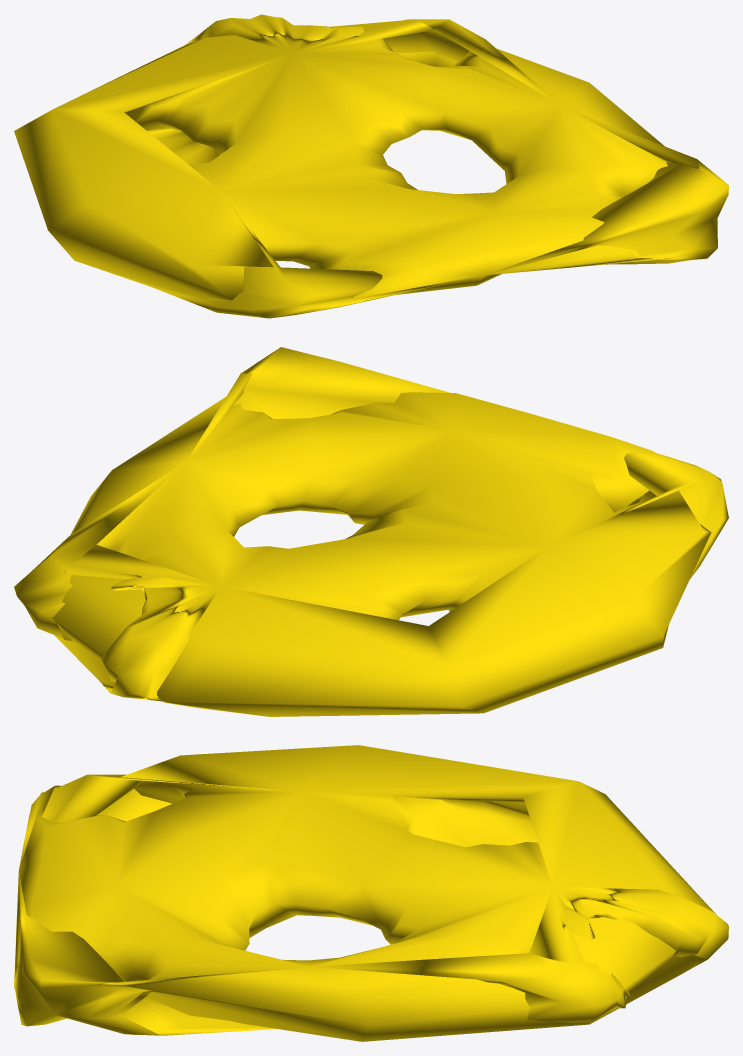
The model's file is cheese.fbx.
The picture shows the model from 3 angles, top to bottom: view 1: azimuth 30°, elevation 25°; view 2: azimuth 150°, elevation 25°; view 3: azimuth 270°, elevation 25°; orthographic projection. The views are drawn at different scales.
Visible parts, largest first — view 1: Cube; view 2: Cube; view 3: Cube.
Part boxes in pixels (x1,y1,x2,y2): Cube: (14, 14, 728, 318); Cube: (14, 347, 728, 716); Cube: (14, 745, 728, 1041).
Size of the model in its own units: 180 by 20.74 by 197.
1 material, 1 textured.
